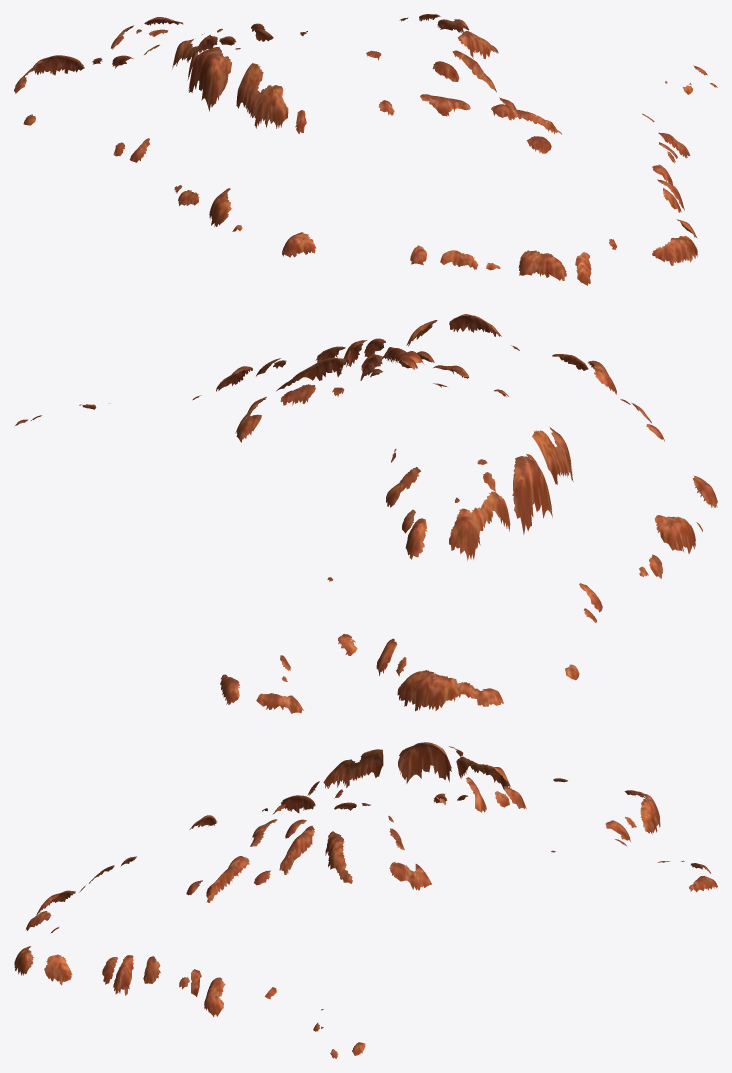
Rendered from tors_desert.glb.
The picture shows the model from 3 angles, top to bottom: view 1: azimuth 30°, elevation 25°; view 2: azimuth 150°, elevation 25°; view 3: azimuth 270°, elevation 25°; orthographic projection. The views are drawn at different scales.
Parts seen in each view (by area): view 1: prefab; view 2: prefab; view 3: prefab.
Part boxes in pixels (x1,y1,x2,y2): prefab: [14, 14, 717, 285]; prefab: [15, 314, 717, 713]; prefab: [14, 742, 717, 1058].
Size of the model in its own units: 182 by 38.16 by 205.
1 material, 1 textured.
